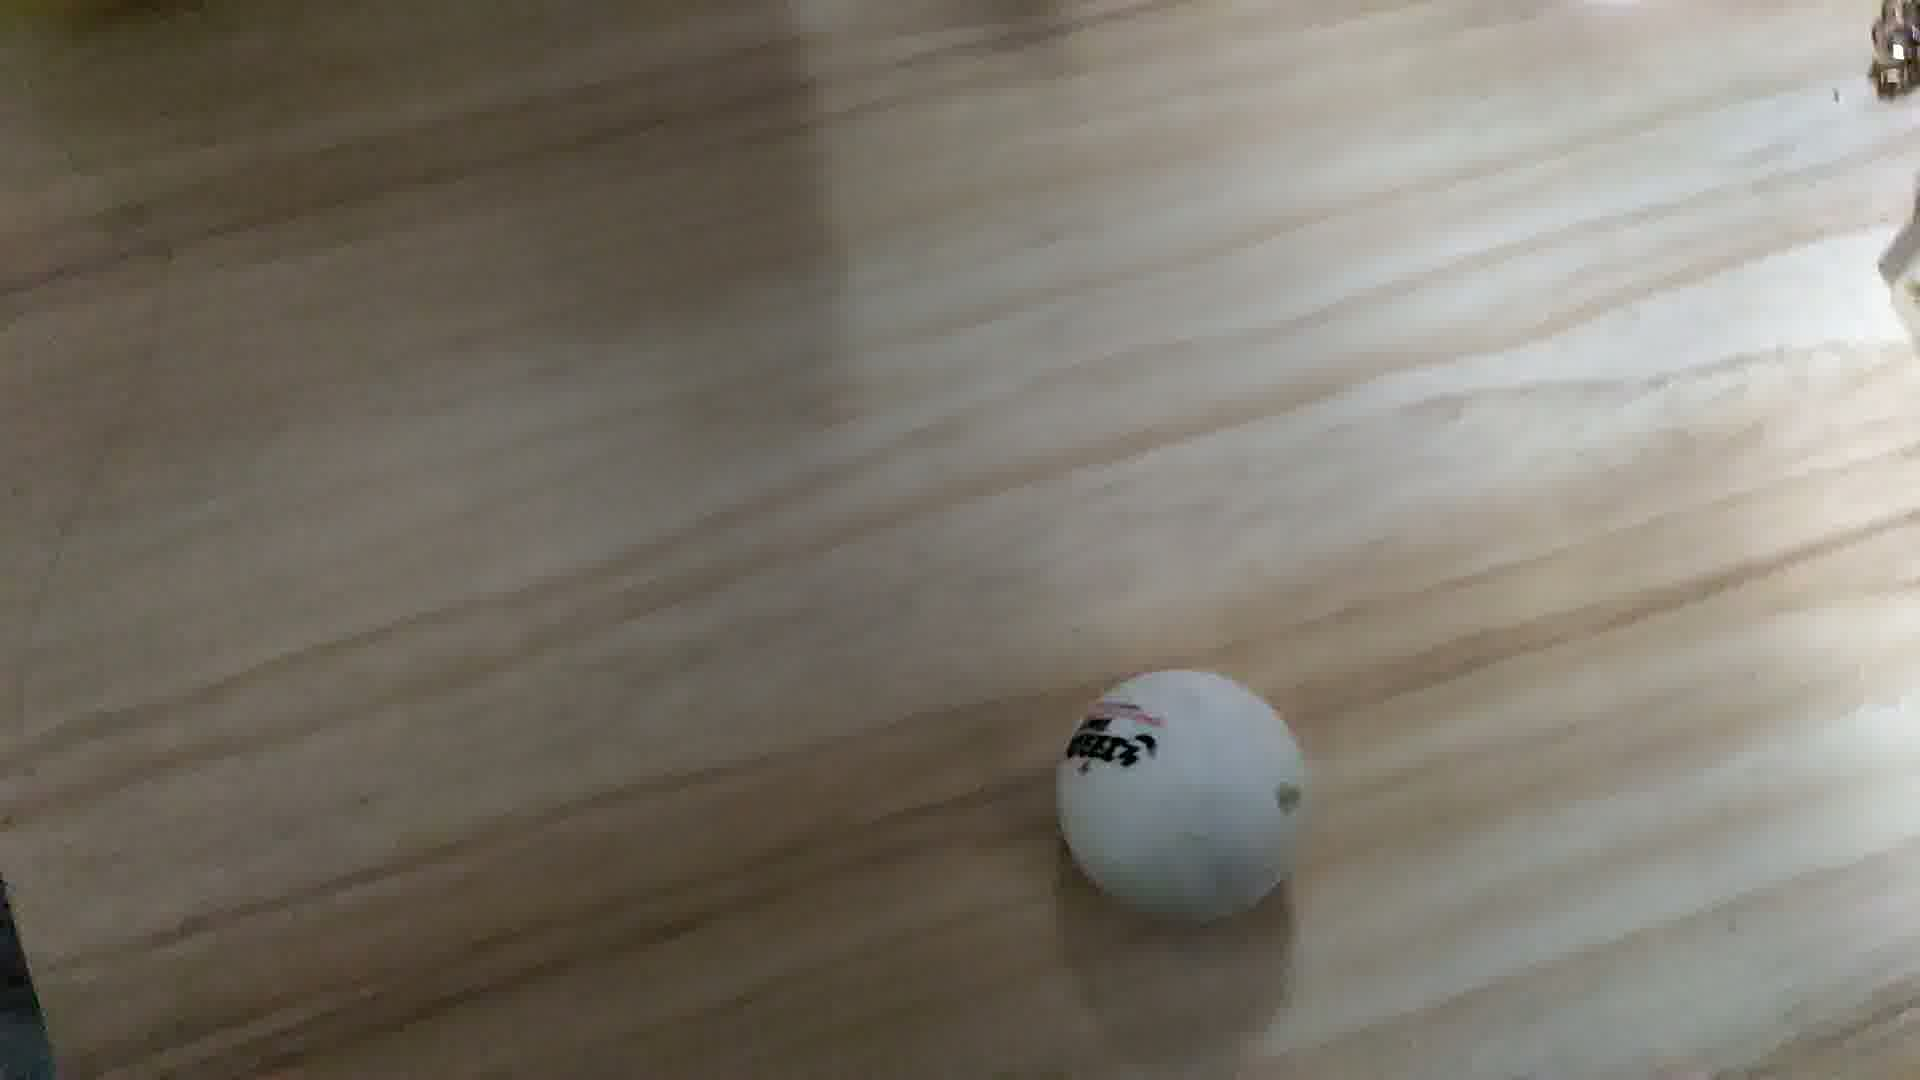Ball: (1054, 666, 1317, 928)
